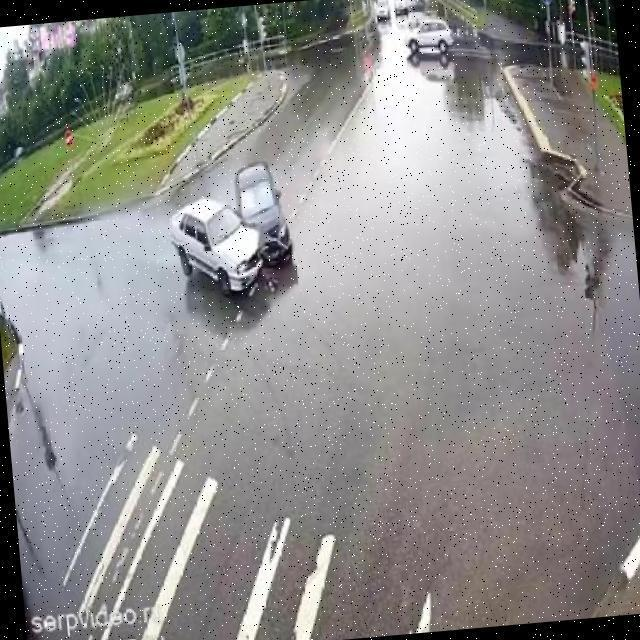accident: (161, 156, 299, 306)
